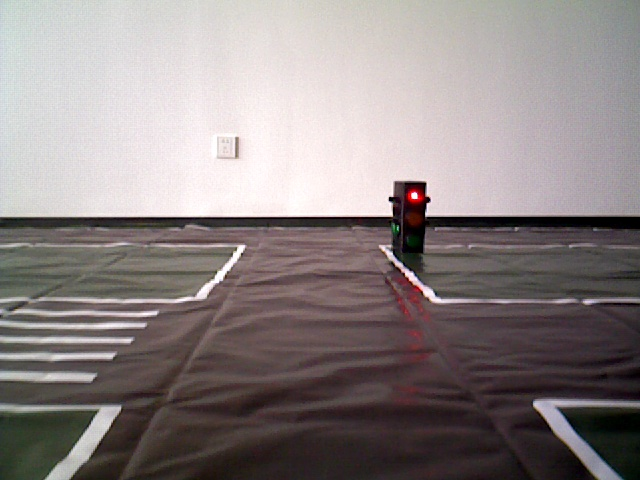red: (390, 182, 423, 251)
